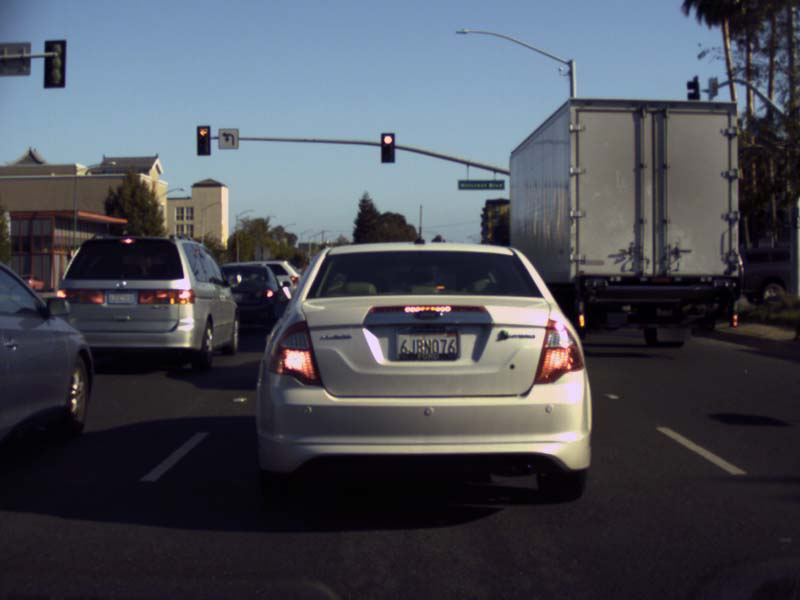Red: (195, 124, 211, 156), (380, 132, 396, 163)
